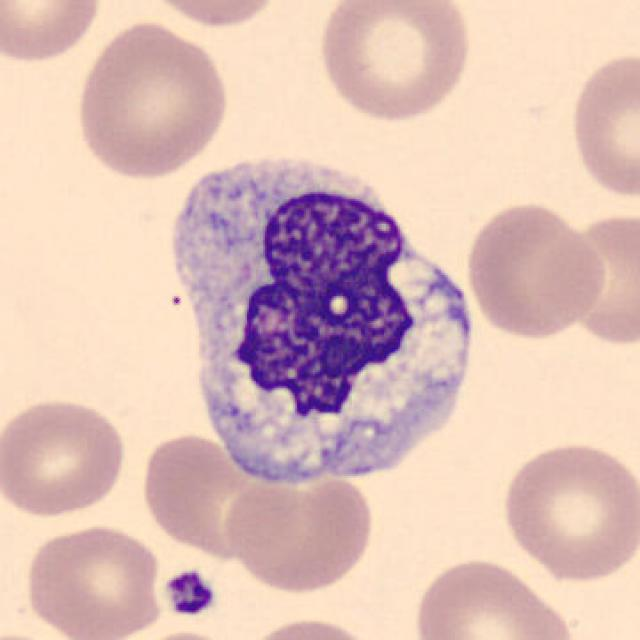Monocyte: (155, 136, 485, 493)
Platelets: (162, 568, 217, 619)
RBC: (71, 18, 233, 182), (496, 436, 638, 586), (462, 198, 606, 342), (220, 464, 377, 596), (313, 0, 476, 125), (137, 428, 284, 562), (20, 520, 166, 638), (0, 393, 132, 520), (408, 553, 581, 640), (551, 208, 640, 347), (566, 46, 638, 203), (0, 0, 105, 67), (137, 0, 288, 32), (240, 613, 382, 640)
